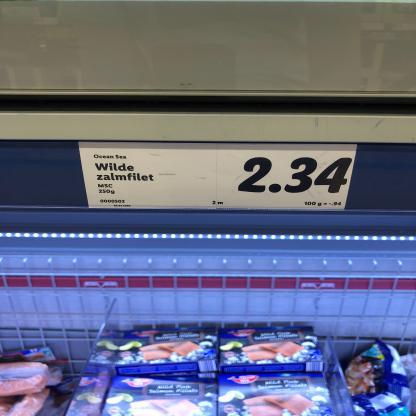prtg: (79, 142, 358, 211)
